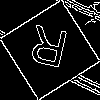R: (25, 25, 71, 77)
